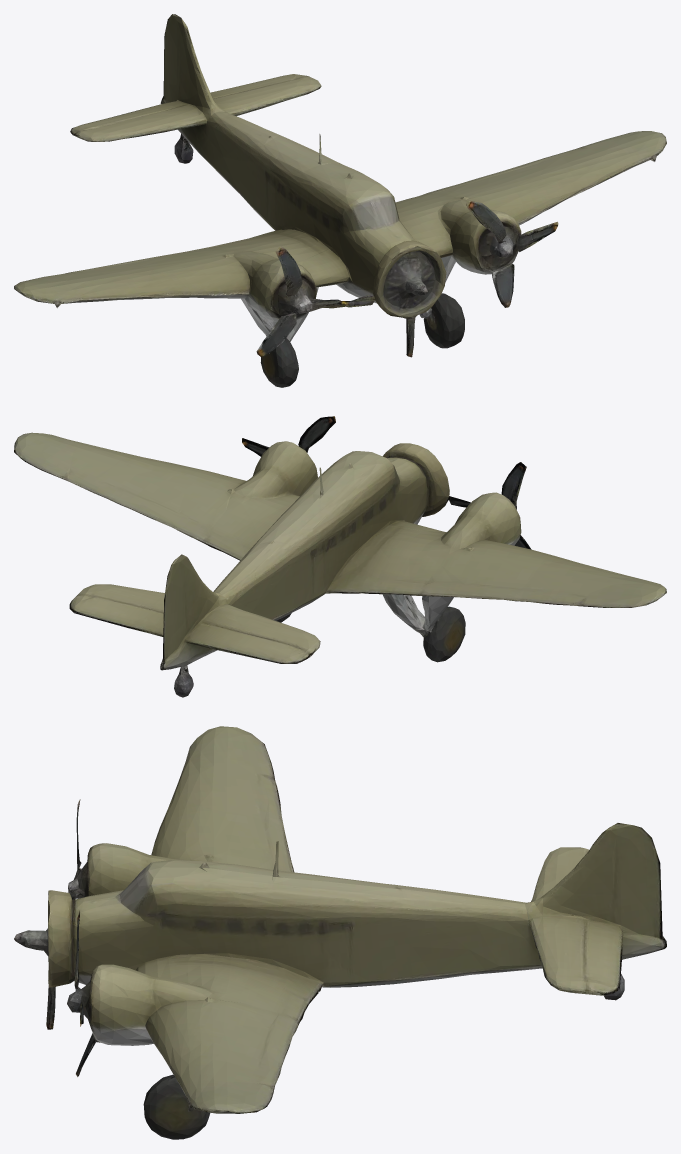
The picture shows the model from 3 angles, top to bottom: view 1: azimuth 30°, elevation 25°; view 2: azimuth 150°, elevation 25°; view 3: azimuth 270°, elevation 25°; orthographic projection. The views are drawn at different scales.
Parts seen in each view (by area): view 1: geometry_0; view 2: geometry_0; view 3: geometry_0.
Part boxes in pixels (<box>): geometry_0: <box>14,14,666,387</box>; geometry_0: <box>14,416,666,697</box>; geometry_0: <box>14,726,666,1139</box>.
Bounding box in the file's own units: 0.9999 × 0.3217 × 0.7155.
Materials: 1 (1 with a texture image).
